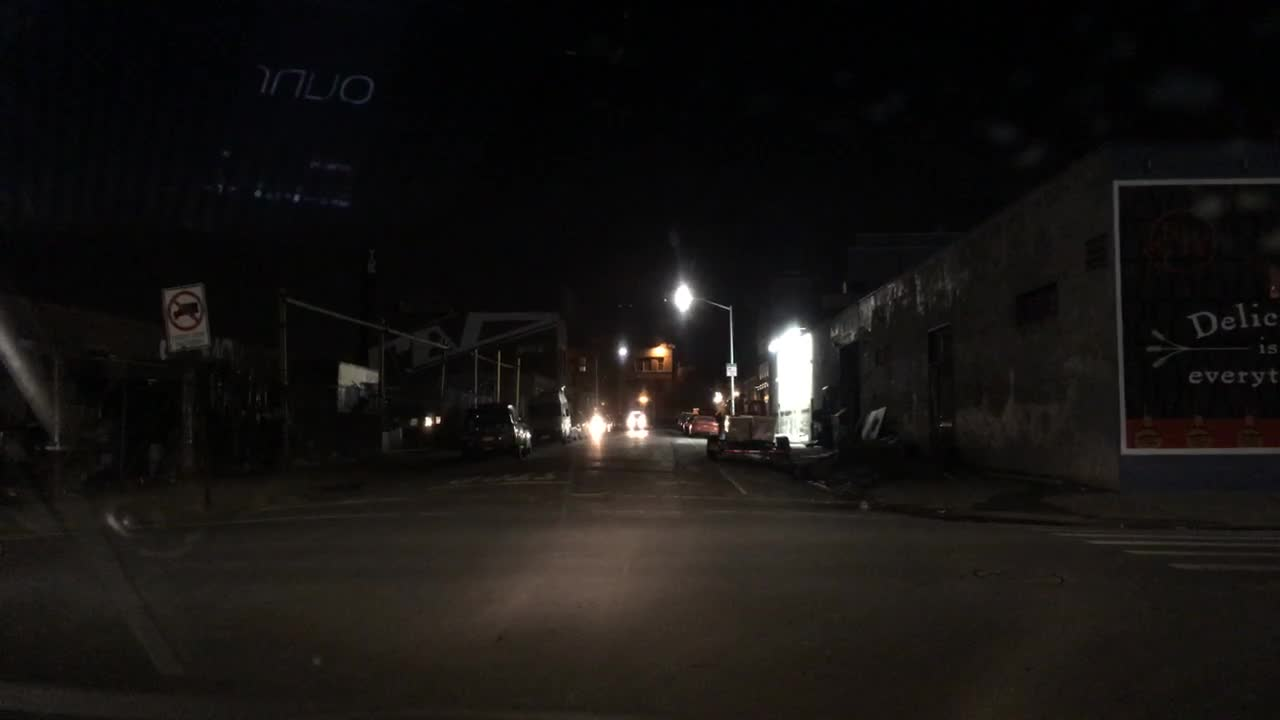car: (462, 399, 534, 457), (528, 389, 573, 445), (582, 414, 613, 436), (690, 414, 719, 437), (626, 408, 651, 430), (683, 411, 695, 433), (678, 409, 688, 429)
traffic sign: (157, 280, 214, 356), (723, 361, 737, 376)
